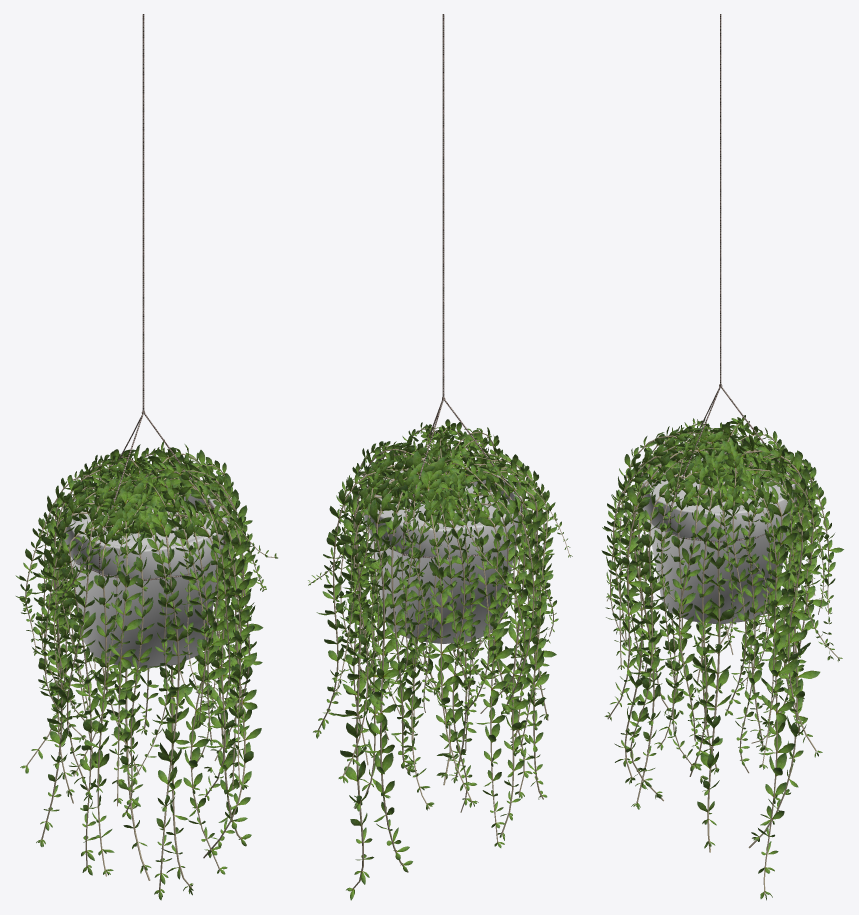
Rendered from stringy_stonecrop.glb.
The picture shows the model from 3 angles, left to right: view 1: azimuth 30°, elevation 25°; view 2: azimuth 150°, elevation 25°; view 3: azimuth 270°, elevation 25°; orthographic projection. The views are drawn at different scales.
Visible parts, largest first — view 1: Herb.003; view 2: Herb.003; view 3: Herb.003.
Part boxes in pixels (x1,y1,x2,y2): Herb.003: [15, 14, 277, 900]; Herb.003: [308, 14, 572, 900]; Herb.003: [601, 14, 843, 900].
Size of the model in its own units: 0.1567 by 0.5784 by 0.1492.
Materials: 4 (2 with a texture image).
